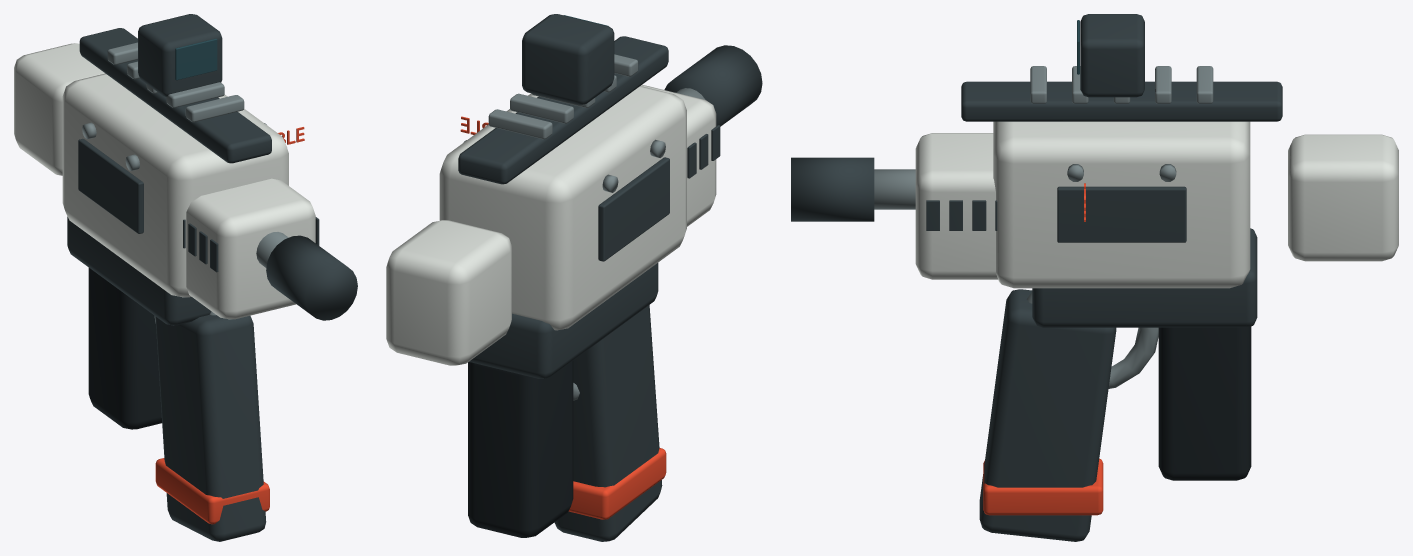
File: sable_smg_standard.glb
The picture shows the model from 3 angles, left to right: view 1: azimuth 30°, elevation 25°; view 2: azimuth 150°, elevation 25°; view 3: azimuth 270°, elevation 25°; orthographic projection. The views are drawn at different scales.
Parts seen in each view (by area): view 1: sable_smg_standard; view 2: sable_smg_standard; view 3: sable_smg_standard.
Boxes of the visible parts, left/top/right/bottom form: sable_smg_standard: left=14, top=14, right=357, bottom=541; sable_smg_standard: left=386, top=14, right=762, bottom=541; sable_smg_standard: left=791, top=14, right=1398, bottom=541.
Bounding box in the file's own units: 0.2377 × 0.6045 × 0.6582.
